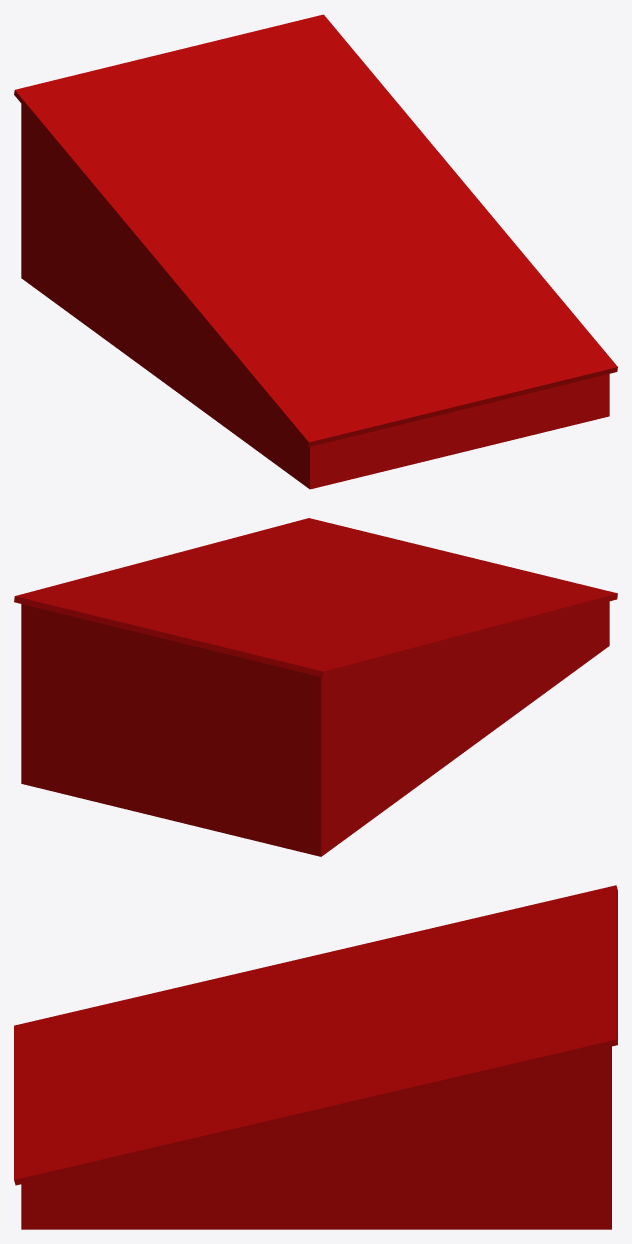
Rendered from left-slanted-roof.fbx.
3 renders of one model, top to bottom at view 1: azimuth 30°, elevation 25°; view 2: azimuth 150°, elevation 25°; view 3: azimuth 270°, elevation 25°, orthographic. The views are drawn at different scales.
Parts seen in each view (by area): view 1: lf_slanted_roof, lf_slanted_roof1; view 2: lf_slanted_roof1, lf_slanted_roof; view 3: lf_slanted_roof, lf_slanted_roof1.
Boxes of the visible parts, x1,y1,x2,y2 form: lf_slanted_roof: (130,163,617,489); lf_slanted_roof1: (14,14,447,369); lf_slanted_roof1: (14,563,446,856); lf_slanted_roof: (139,518,617,764); lf_slanted_roof: (14,940,379,1229); lf_slanted_roof1: (339,885,617,1229).
Bounding box in the file's own units: 6.18 × 3.6 × 10.23.
